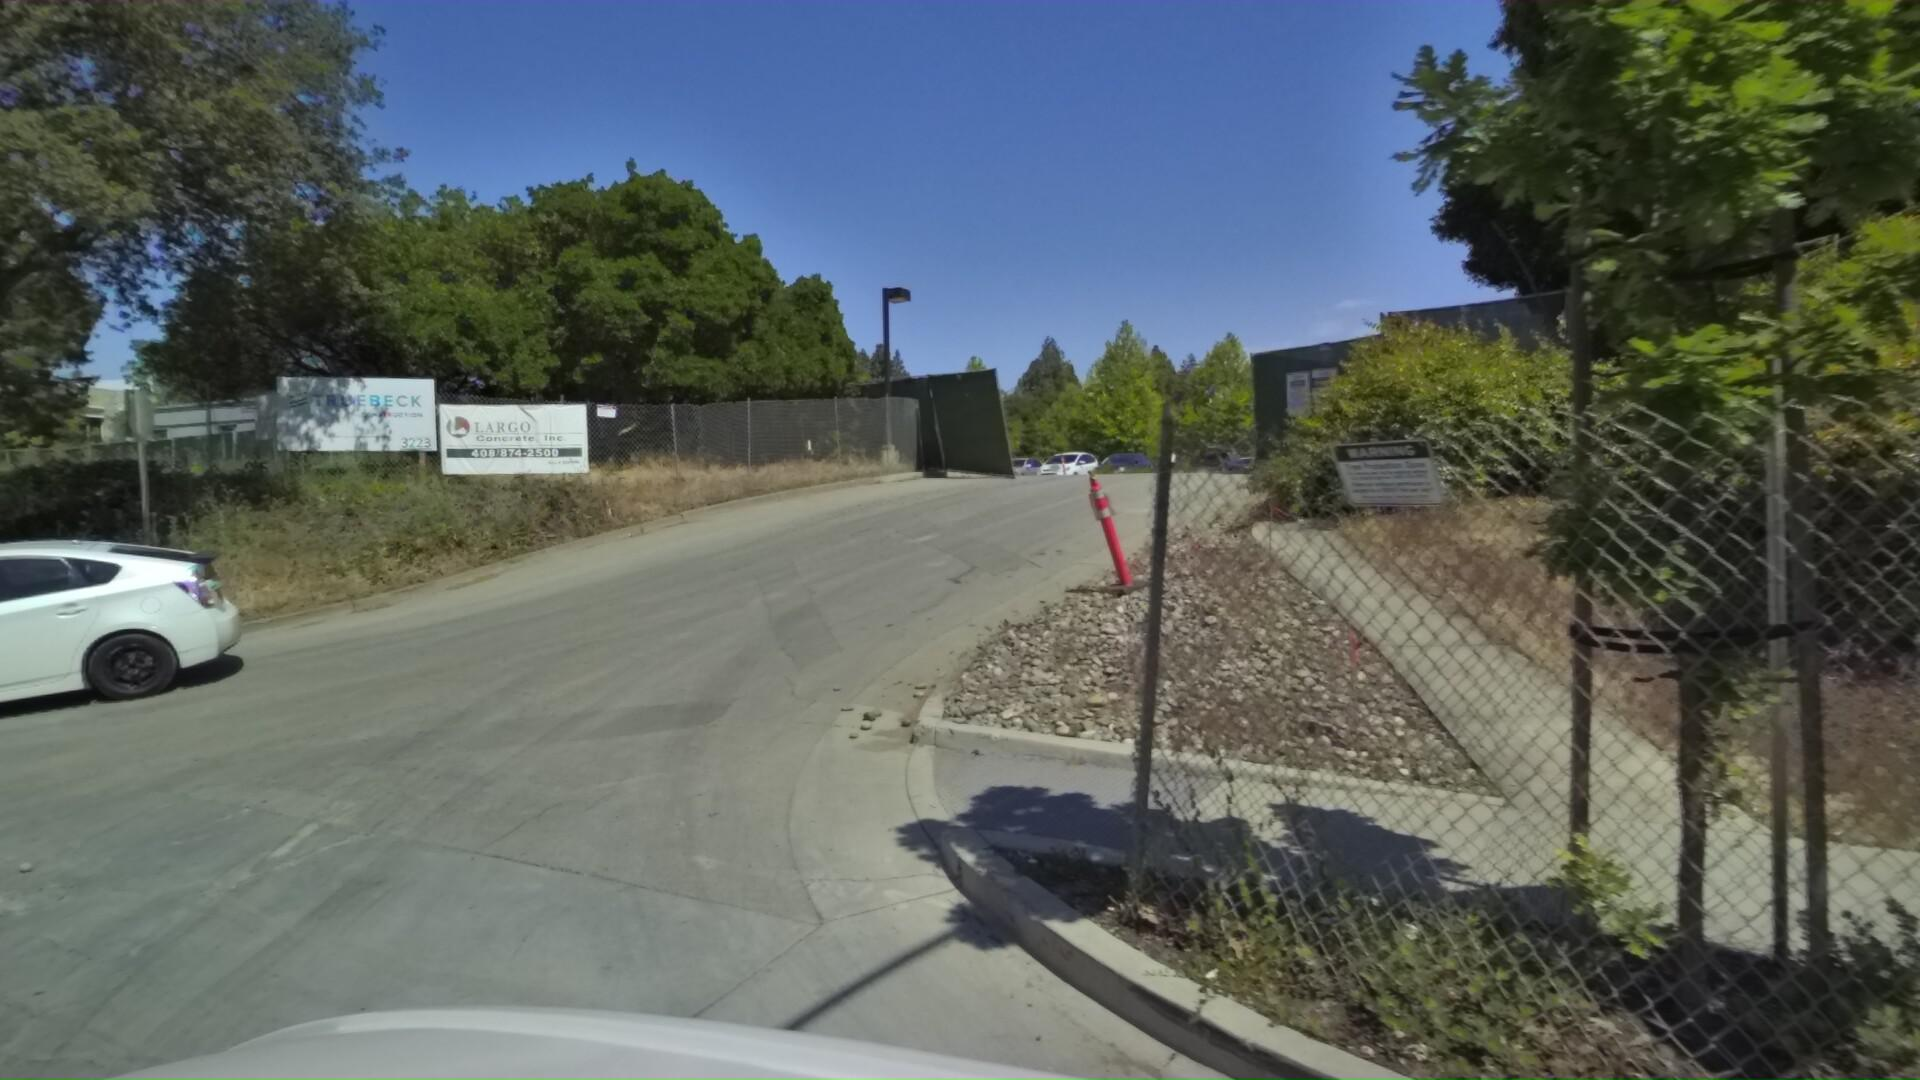car: (0, 516, 272, 789)
